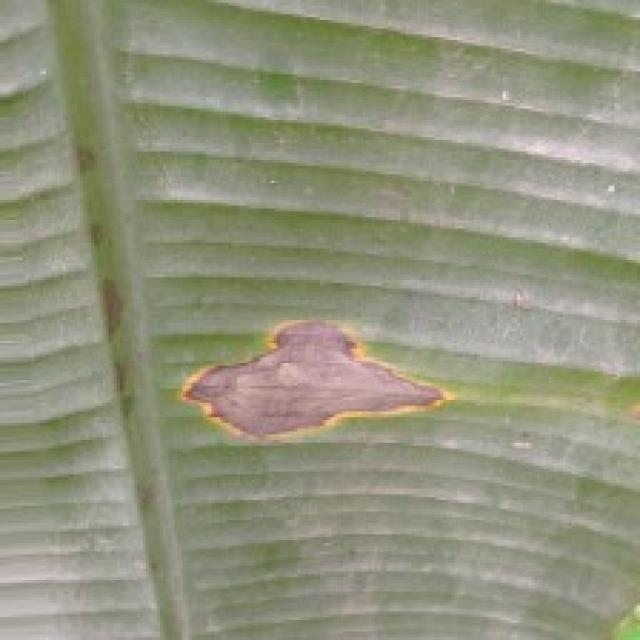Bacterial_spot: (168, 309, 458, 479)
